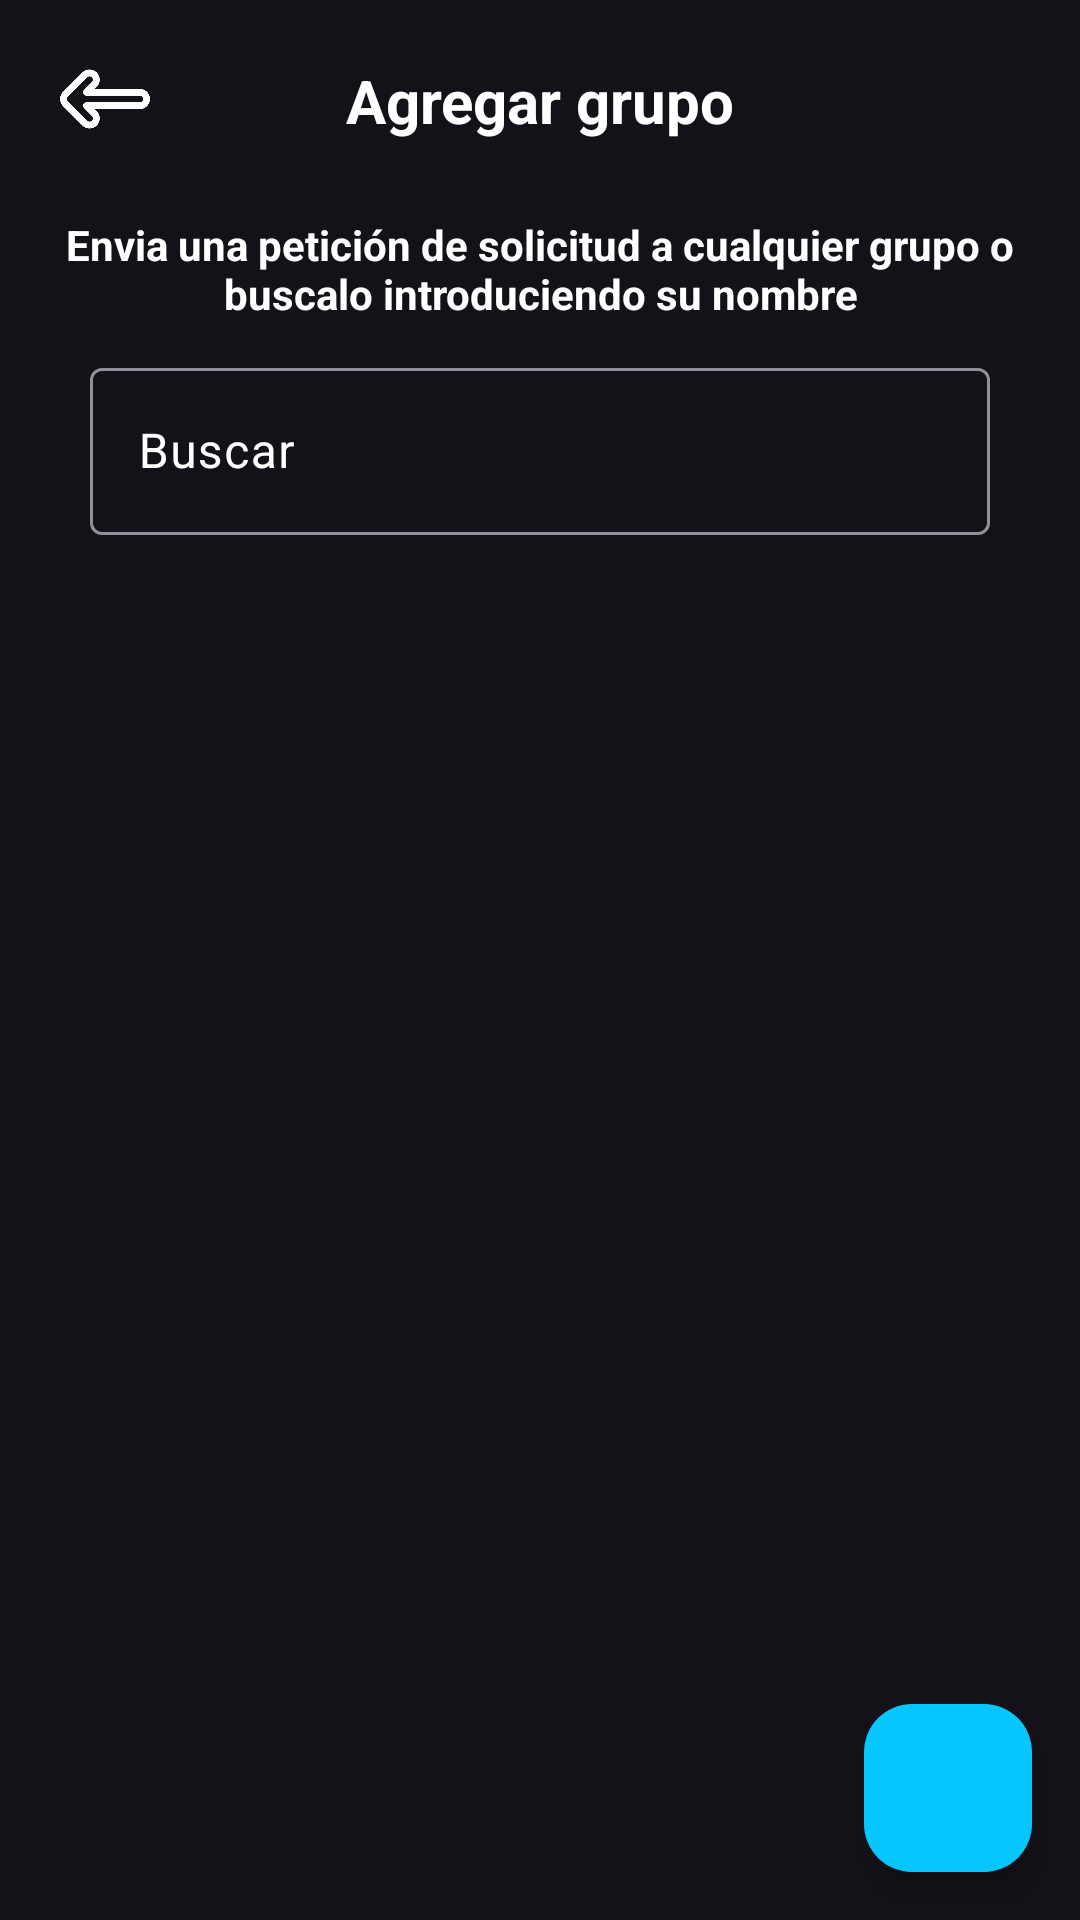

Locate icon controls on the screen. Image size 1080×1920, boxes as [x1=x1, y1=y1, x2=x2, y2=y2].
volver: [x1=60, y1=69, x2=150, y2=129]
